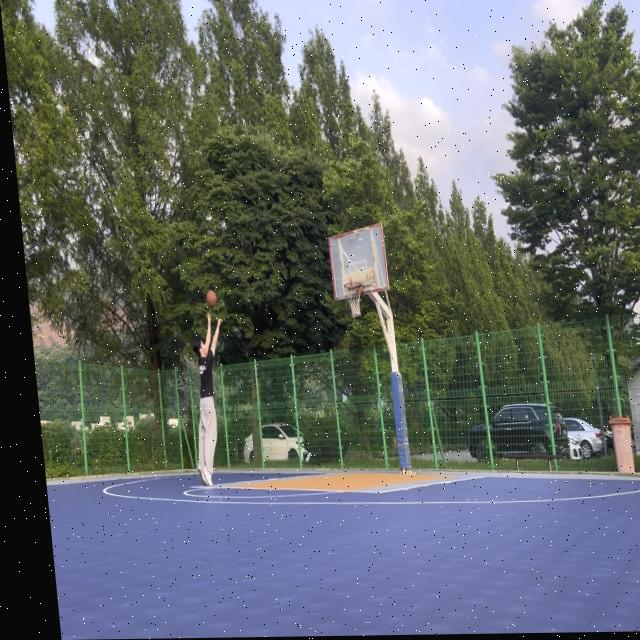basketball: (205, 289, 218, 309)
hoop: (344, 281, 365, 319)
